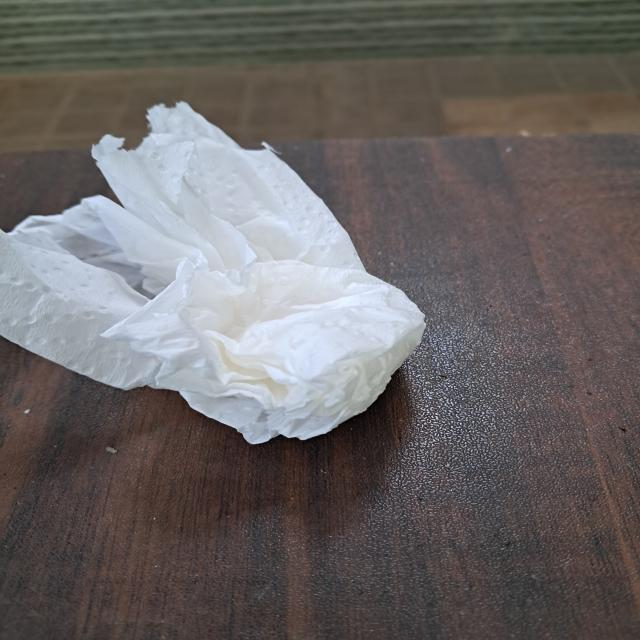Organik: (0, 99, 425, 445)
